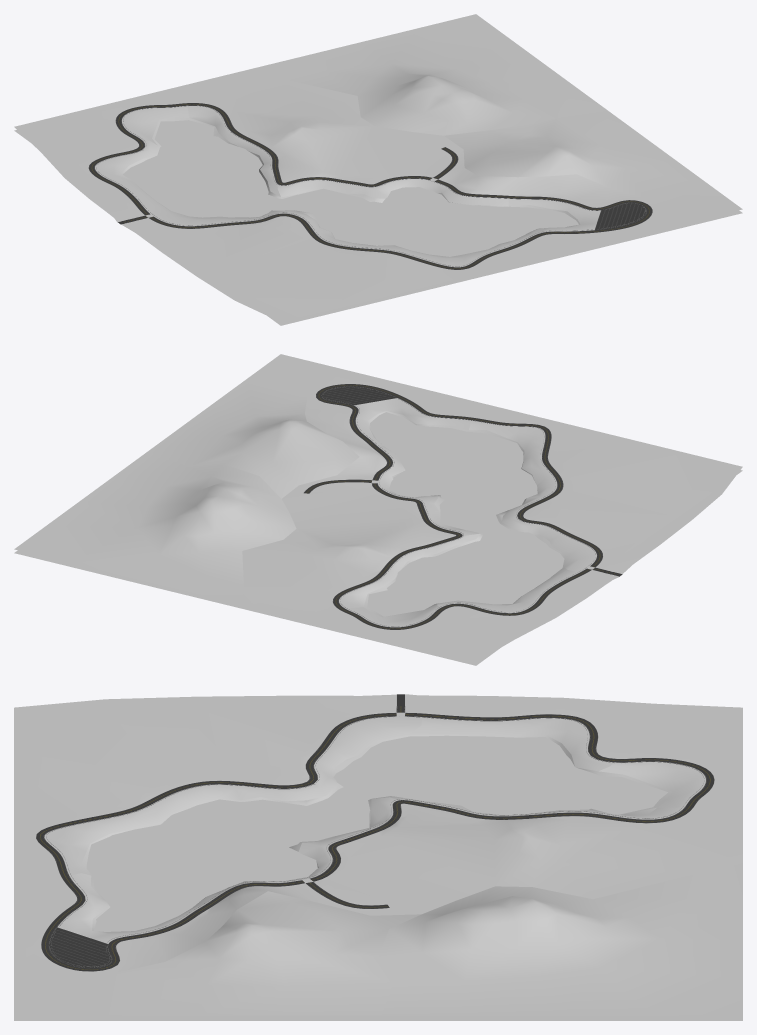
File: Lake Road.fbx
3 views of the same model, one above another, from view 1: azimuth 30°, elevation 25°; view 2: azimuth 150°, elevation 25°; view 3: azimuth 270°, elevation 25° (orthographic). The views are drawn at different scales.
Parts seen in each view (by area): view 1: Water, Landscape.001, Landscape.002, Landscape.004, Landscape.012, Landscape.013, Landscape, Landscape.014, Landscape.015, Landscape.011, Landscape.007, Landscape.008 (+6 smaller); view 2: Landscape.001, Water, Landscape.002, Landscape.004, Landscape.013, Landscape.012, Landscape.014, Landscape, Landscape.015, Landscape.007, Landscape.006, Landscape.005 (+6 smaller); view 3: Landscape.001, Water, Landscape.002, Landscape.004, Landscape.013, Landscape.012, Landscape.014, Landscape, Landscape.015, Landscape.007, Landscape.008, Landscape.006 (+18 smaller).
Part boxes in pixels (x1=…): Water: x1=14, y1=120, x2=742, y2=325; Landscape.001: x1=248, y1=14, x2=607, y2=135; Landscape.002: x1=444, y1=111, x2=742, y2=222; Landscape.004: x1=229, y1=70, x2=443, y2=184; Landscape.012: x1=235, y1=238, x2=571, y2=321; Landscape.013: x1=121, y1=216, x2=340, y2=300; Landscape: x1=425, y1=136, x2=686, y2=250; Landscape.014: x1=14, y1=112, x2=144, y2=222; Landscape.015: x1=73, y1=70, x2=246, y2=119; Landscape.011: x1=277, y1=178, x2=508, y2=206; Landscape.007: x1=146, y1=206, x2=355, y2=246; Landscape.008: x1=95, y1=141, x2=169, y2=210; Landscape.001: x1=14, y1=452, x2=296, y2=604; Water: x1=14, y1=412, x2=742, y2=665; Landscape.002: x1=146, y1=354, x2=359, y2=498; Landscape.004: x1=242, y1=486, x2=455, y2=605; Landscape.013: x1=523, y1=480, x2=721, y2=573; Landscape.012: x1=441, y1=396, x2=742, y2=494; Landscape.014: x1=412, y1=570, x2=619, y2=661; Landscape: x1=282, y1=368, x2=451, y2=498; Landscape.015: x1=244, y1=587, x2=417, y2=647; Landscape.007: x1=502, y1=478, x2=596, y2=572; Landscape.006: x1=469, y1=420, x2=555, y2=484; Landscape.005: x1=354, y1=398, x2=470, y2=446; Landscape.001: x1=378, y1=863, x2=742, y2=1015; Water: x1=14, y1=735, x2=742, y2=1020; Landscape.002: x1=14, y1=891, x2=420, y2=1015; Landscape.004: x1=322, y1=803, x2=742, y2=914; Landscape.013: x1=105, y1=694, x2=396, y2=786; Landscape.012: x1=14, y1=699, x2=177, y2=901; Landscape.014: x1=405, y1=694, x2=742, y2=762; Landscape: x1=14, y1=879, x2=420, y2=977; Landscape.015: x1=621, y1=746, x2=742, y2=862; Landscape.007: x1=177, y1=716, x2=421, y2=805; Landscape.008: x1=409, y1=717, x2=614, y2=771; Landscape.006: x1=44, y1=792, x2=195, y2=875.
Bounding box in the file's own units: 8.87 × 0.9487 × 8.5.
